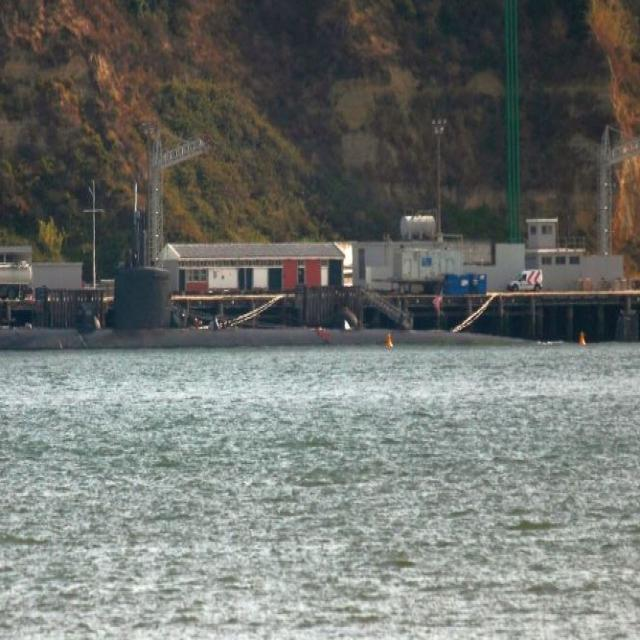submarine: (1, 261, 492, 354)
